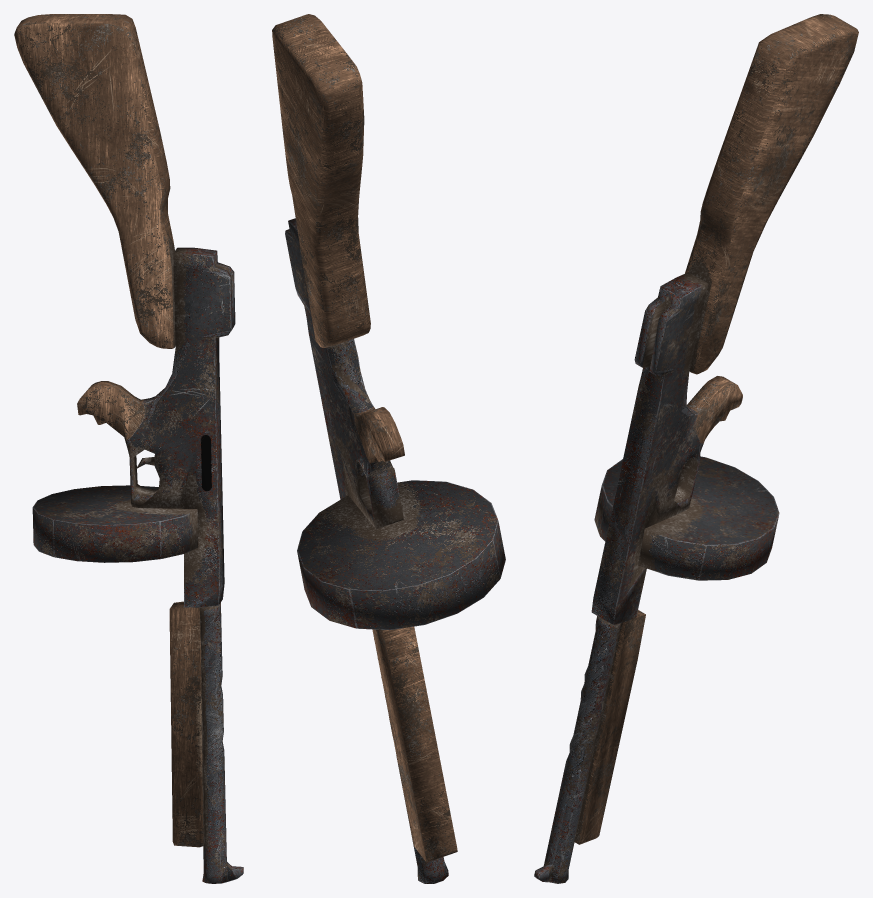
Rendered from Anim_idle_ametralladora_objetos.0027.obj.
The picture shows the model from 3 angles, left to right: view 1: azimuth 30°, elevation 25°; view 2: azimuth 150°, elevation 25°; view 3: azimuth 270°, elevation 25°; orthographic projection. The views are drawn at different scales.
Visible parts, largest first — view 1: Ametralladora1; view 2: Ametralladora1; view 3: Ametralladora1.
Part boxes in pixels (x1=…): Ametralladora1: x1=14, y1=14, x2=243, y2=883; Ametralladora1: x1=272, y1=14, x2=505, y2=883; Ametralladora1: x1=534, y1=14, x2=858, y2=883.
Bounding box in the file's own units: 1.41 × 5.89 × 2.06.
